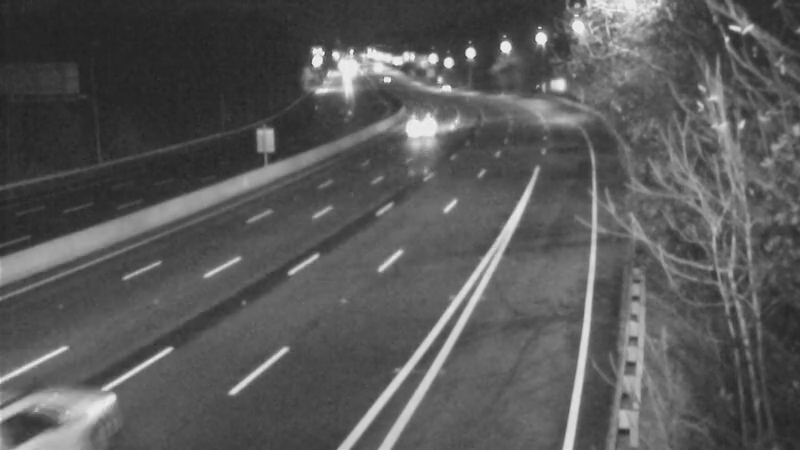vehicle: (416, 63, 466, 113), (392, 96, 442, 146)
